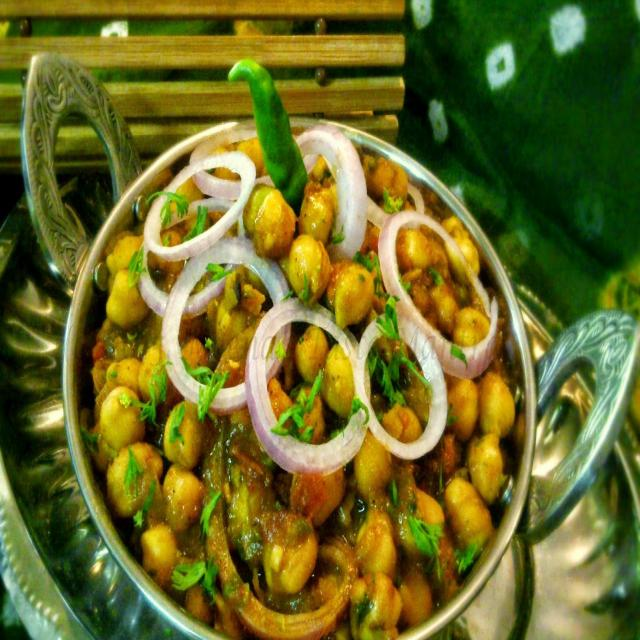Chole: (94, 128, 517, 640)
